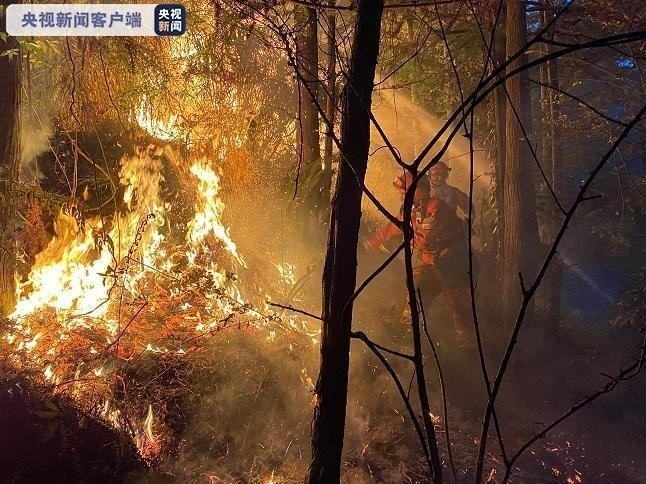fire: (3, 99, 314, 408)
